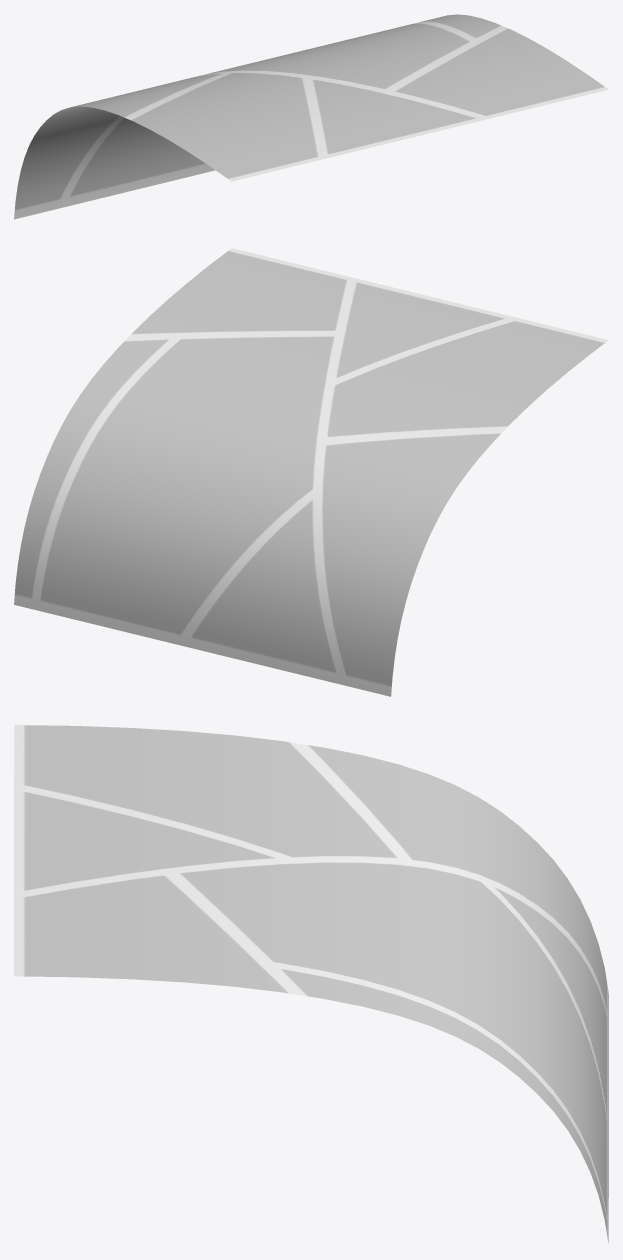
The model's file is Ceiling04_350x350x175cm.FBX.
The picture shows the model from 3 angles, top to bottom: view 1: azimuth 30°, elevation 25°; view 2: azimuth 150°, elevation 25°; view 3: azimuth 270°, elevation 25°; orthographic projection. The views are drawn at different scales.
Parts seen in each view (by area): view 1: Ceiling04_350x350x175cm; view 2: Ceiling04_350x350x175cm; view 3: Ceiling04_350x350x175cm.
Part boxes in pixels (x1,y1,x2,y2): Ceiling04_350x350x175cm: (14, 14, 608, 219); Ceiling04_350x350x175cm: (14, 248, 608, 696); Ceiling04_350x350x175cm: (14, 725, 608, 1243).
Bounding box in the file's own units: 350 × 175 × 350.
